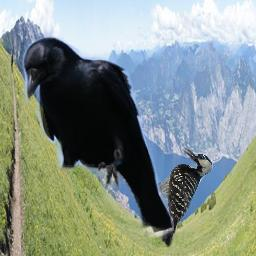Crow: (21, 36, 174, 241)
Woodpecker: (152, 148, 213, 248)
